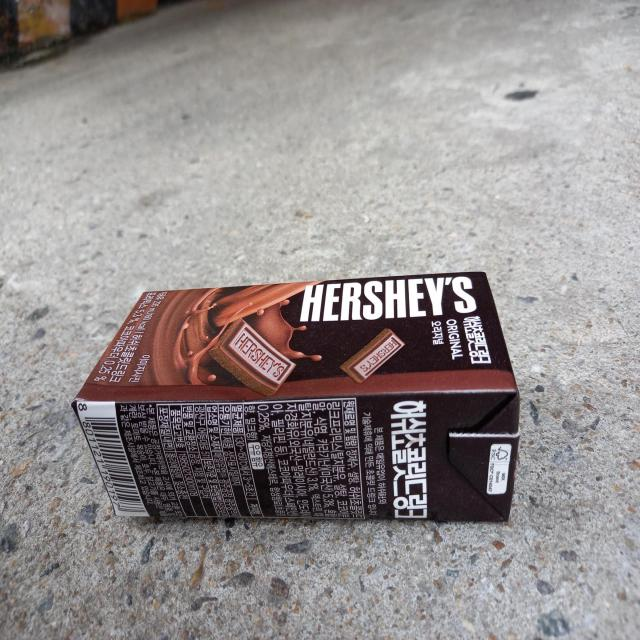paperpack: (72, 272, 520, 522)
